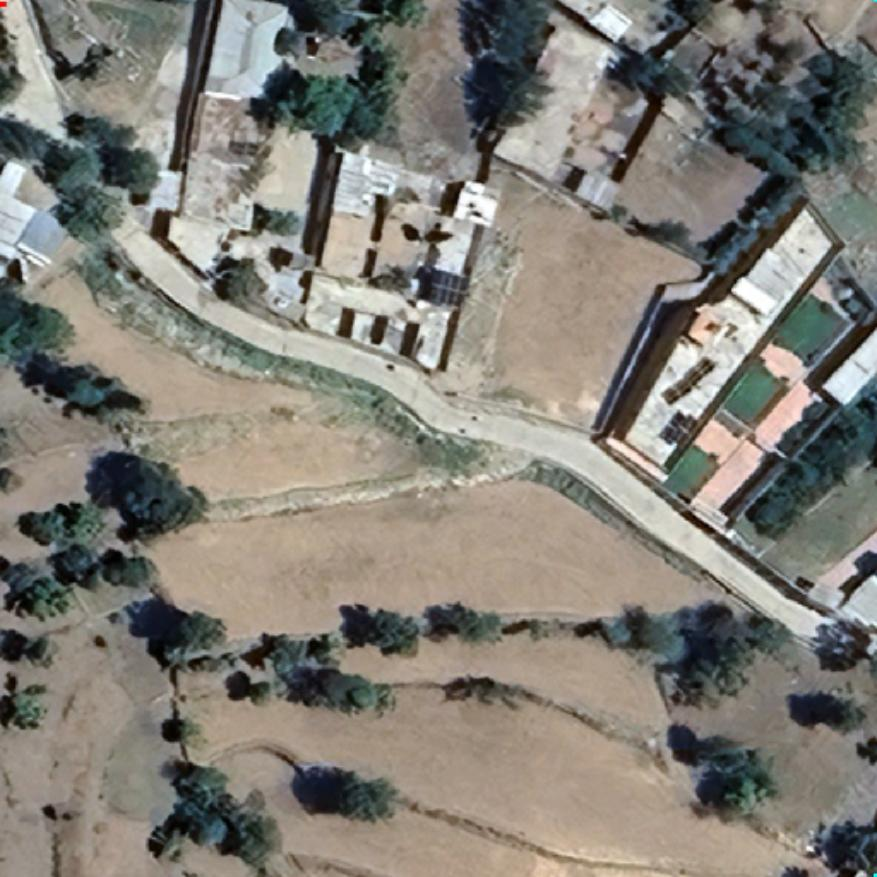Solarpanel: (653, 350, 716, 406), (426, 266, 474, 310), (655, 409, 697, 445)
